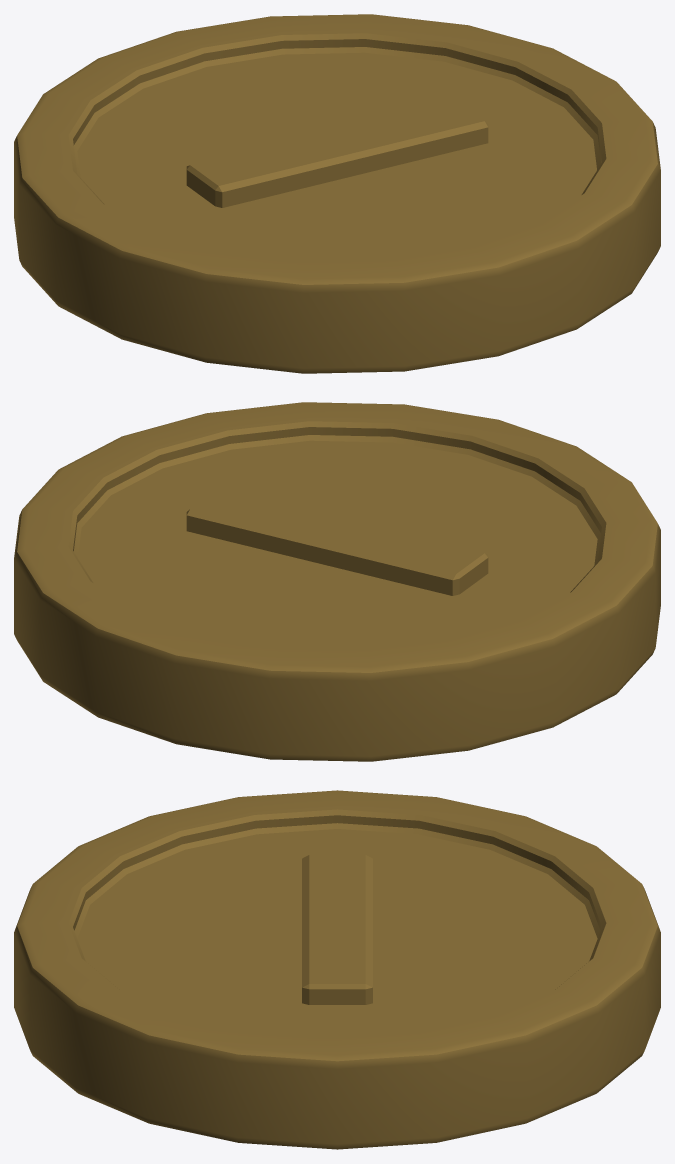
Rendered from TEMP_Coin.fbx.
3 renders of one model, top to bottom at view 1: azimuth 30°, elevation 25°; view 2: azimuth 150°, elevation 25°; view 3: azimuth 270°, elevation 25°, orthographic.
Visible parts, largest first — view 1: Coin; view 2: Coin; view 3: Coin.
Part boxes in pixels (left/top/right/bottom): Coin: left=14, top=14, right=660, bottom=373; Coin: left=14, top=402, right=660, bottom=761; Coin: left=14, top=790, right=660, bottom=1149.
Size of the model in its own units: 1.44 by 0.248 by 1.44.
